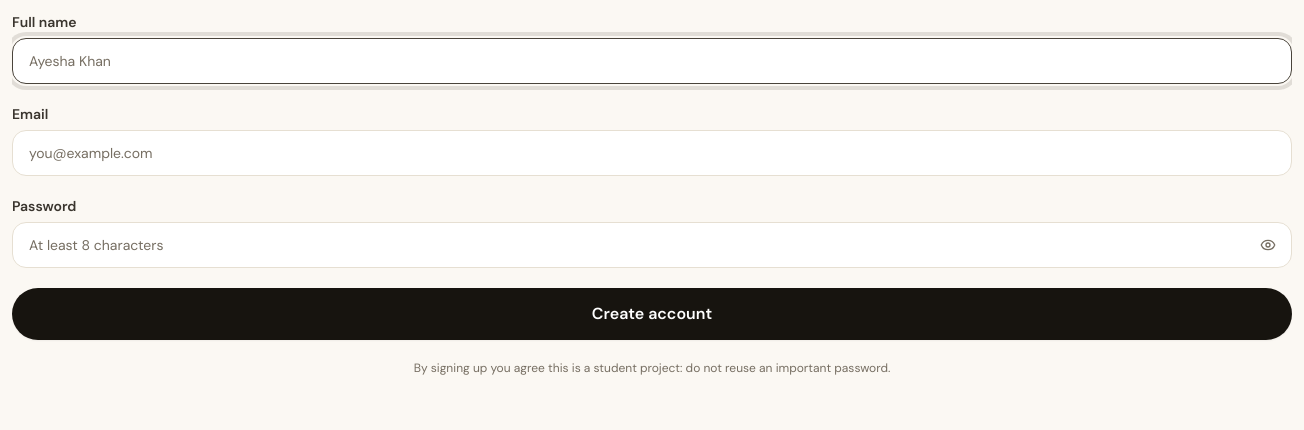
Test: RegisterForm › shows password strength while typing
The width and height of the screenshot is (1304, 430).
In the password field labelled "Password": (652,245) [12,222,1292,268], type "Abcdefg1!xyz"
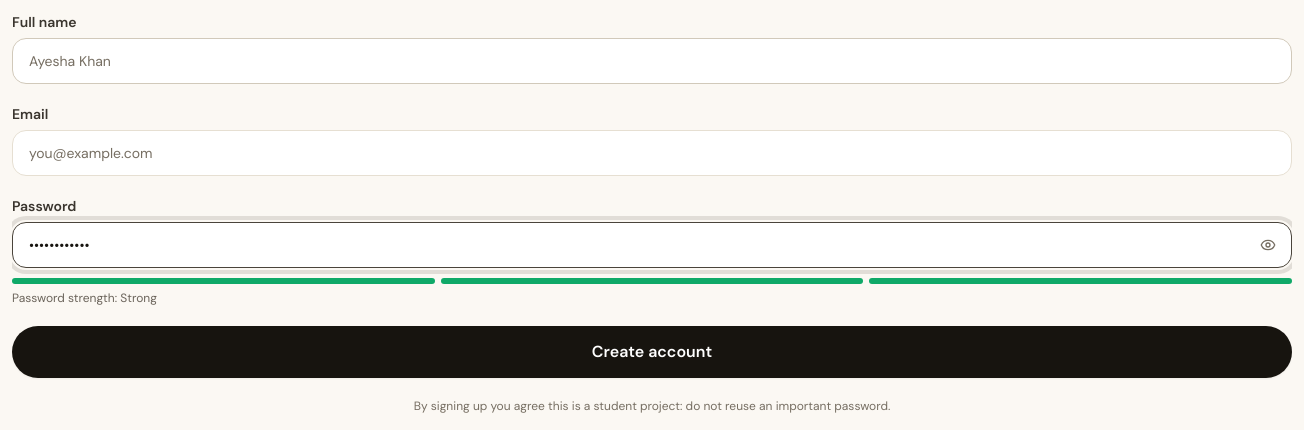
Now the text "Password strength: Strong" is shown, box [12,290,157,306]
